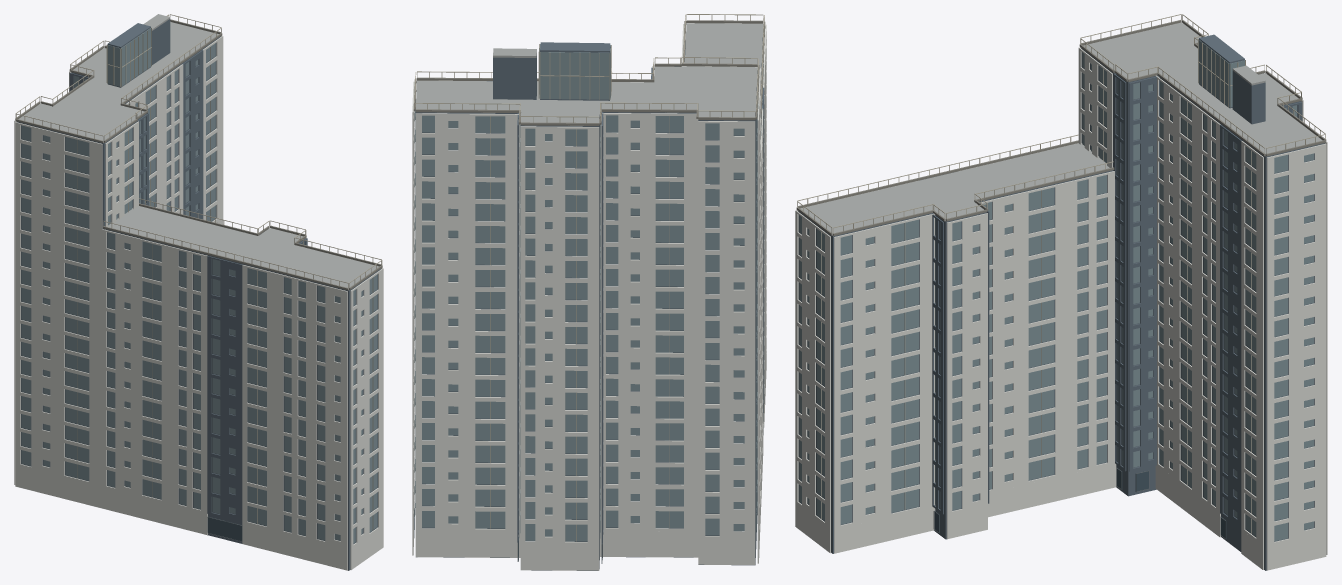
Rendered from bespoke-raemian-onebailey-107.glb.
3 renders of one model, left to right at view 1: azimuth 30°, elevation 25°; view 2: azimuth 150°, elevation 25°; view 3: azimuth 270°, elevation 25°, orthographic. The views are drawn at different scales.
Visible parts, largest first — view 1: 107_pale_bays_navy_shafts001_4, 107_pale_bays_navy_shafts001, 107_editable_massing, 107_glass_roof_crown001_3, 107_pale_bays_navy_shafts001_2, 107_glass_roof_crown001, 107_pale_bays_navy_shafts001_1; view 2: 107_pale_bays_navy_shafts001_4, 107_pale_bays_navy_shafts001, 107_glass_roof_crown001_3, 107_editable_massing, 107_pale_bays_navy_shafts001_2, 107_glass_roof_crown001; view 3: 107_pale_bays_navy_shafts001_4, 107_pale_bays_navy_shafts001, 107_editable_massing, 107_glass_roof_crown001_3, 107_pale_bays_navy_shafts001_2, 107_glass_roof_crown001.
Part boxes in pixels (x1,y1,x2,y2): 107_pale_bays_navy_shafts001_4: [14, 22, 383, 570]; 107_pale_bays_navy_shafts001: [21, 28, 377, 543]; 107_editable_massing: [16, 19, 381, 570]; 107_glass_roof_crown001_3: [19, 14, 379, 290]; 107_pale_bays_navy_shafts001_2: [15, 14, 382, 530]; 107_glass_roof_crown001: [15, 19, 382, 290]; 107_pale_bays_navy_shafts001_1: [207, 516, 242, 541]; 107_pale_bays_navy_shafts001_4: [412, 23, 766, 570]; 107_pale_bays_navy_shafts001: [414, 42, 763, 541]; 107_glass_roof_crown001_3: [416, 23, 763, 125]; 107_editable_massing: [415, 29, 764, 570]; 107_pale_bays_navy_shafts001_2: [414, 14, 764, 541]; 107_glass_roof_crown001: [413, 20, 765, 130]; 107_pale_bays_navy_shafts001_4: [795, 22, 1327, 570]; 107_pale_bays_navy_shafts001: [799, 39, 1313, 541]; 107_editable_massing: [798, 34, 1324, 570]; 107_glass_roof_crown001_3: [800, 22, 1322, 236]; 107_pale_bays_navy_shafts001_2: [797, 14, 1325, 533]; 107_glass_roof_crown001: [796, 20, 1326, 235].
Bounding box in the file's own units: 39.54 × 62.65 × 65.5.
